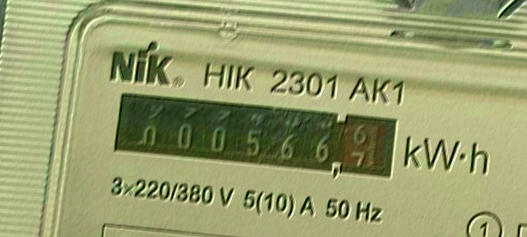0: (206, 124, 227, 155), (172, 120, 192, 151), (136, 122, 157, 147)
5: (241, 128, 261, 158)
6: (309, 132, 331, 165), (274, 132, 295, 161), (349, 123, 367, 149)
7: (346, 150, 364, 170)
9: (143, 100, 162, 122)
screen: (102, 85, 401, 188)
